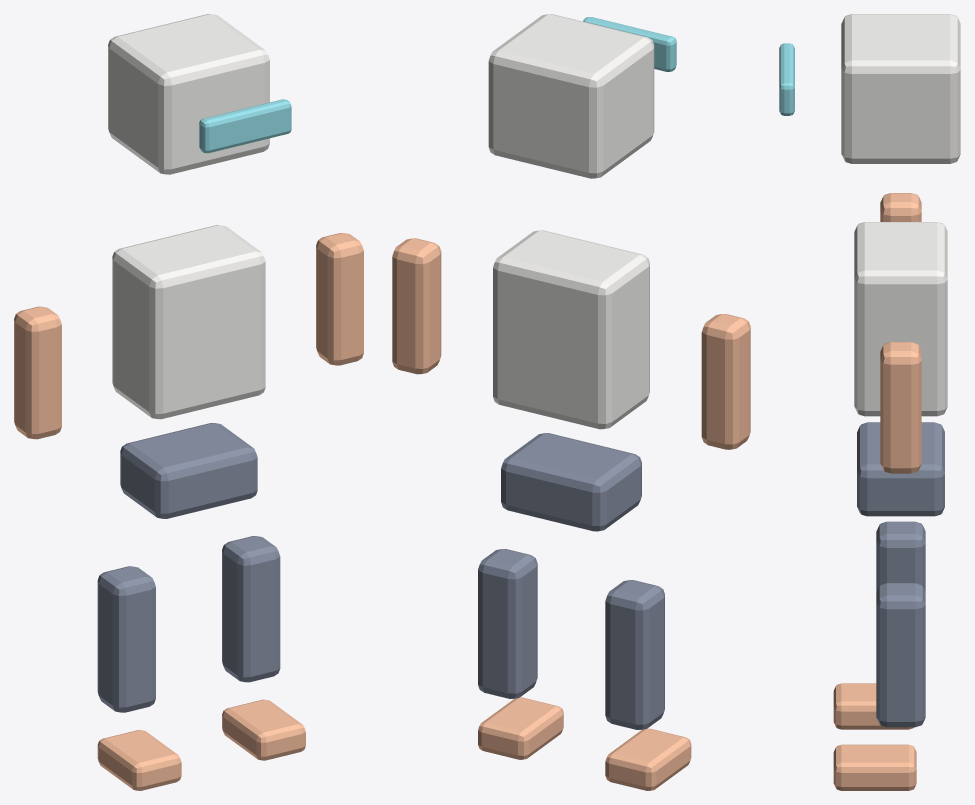
File: player.glb
3 views of the same model, side by side, from view 1: azimuth 30°, elevation 25°; view 2: azimuth 150°, elevation 25°; view 3: azimuth 270°, elevation 25° (orthographic). The views are drawn at different scales.
Visible parts, largest first — view 1: Torso, Head, Hips, LegR, LegL, ArmR, ArmL, FootR, FootL, Visor; view 2: Torso, Head, Hips, LegL, LegR, ArmL, ArmR, FootR, FootL, Visor; view 3: Head, Torso, LegL, Hips, ArmL, FootL, LegR, FootR, ArmR, Visor.
Boxes of the visible parts, bbox=[...] form: Torso: bbox=[112, 225, 265, 419]; Head: bbox=[108, 14, 269, 174]; Hips: bbox=[120, 423, 257, 518]; LegR: bbox=[97, 566, 155, 712]; LegL: bbox=[222, 536, 280, 682]; ArmR: bbox=[14, 306, 61, 439]; ArmL: bbox=[316, 233, 363, 365]; FootR: bbox=[97, 730, 181, 790]; FootL: bbox=[222, 699, 305, 760]; Visor: bbox=[199, 99, 291, 153]; Torso: bbox=[493, 230, 649, 429]; Head: bbox=[488, 14, 654, 178]; Hips: bbox=[501, 433, 641, 531]; LegL: bbox=[478, 549, 537, 698]; LegR: bbox=[605, 580, 664, 729]; ArmL: bbox=[392, 238, 441, 374]; ArmR: bbox=[701, 314, 750, 449]; FootR: bbox=[605, 728, 691, 790]; FootL: bbox=[478, 697, 563, 759]; Visor: bbox=[583, 17, 676, 71]; Head: bbox=[841, 14, 960, 163]; Torso: bbox=[854, 222, 947, 416]; LegL: bbox=[876, 583, 925, 727]; Hips: bbox=[857, 422, 944, 516]; ArmL: bbox=[880, 342, 921, 473]; FootL: bbox=[833, 744, 916, 790]; LegR: bbox=[876, 521, 925, 592]; FootR: bbox=[833, 683, 913, 729]; ArmR: bbox=[880, 193, 921, 221]; Visor: bbox=[779, 43, 794, 115].
Size of the model in its own units: 0.76 by 1.52 by 0.35.
